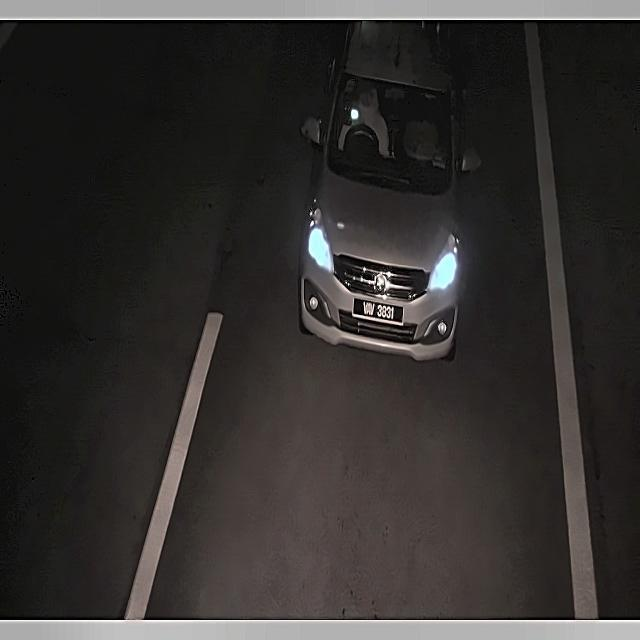car: (348, 288, 408, 333)
